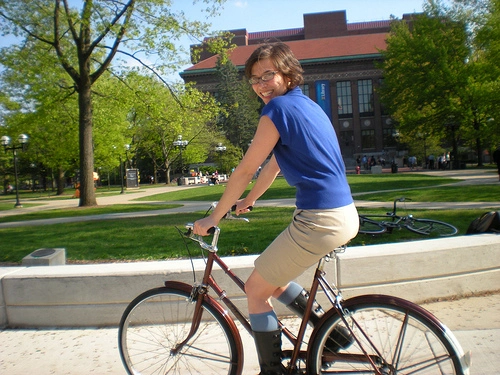bike: (115, 201, 475, 375)
person: (191, 39, 361, 375)
